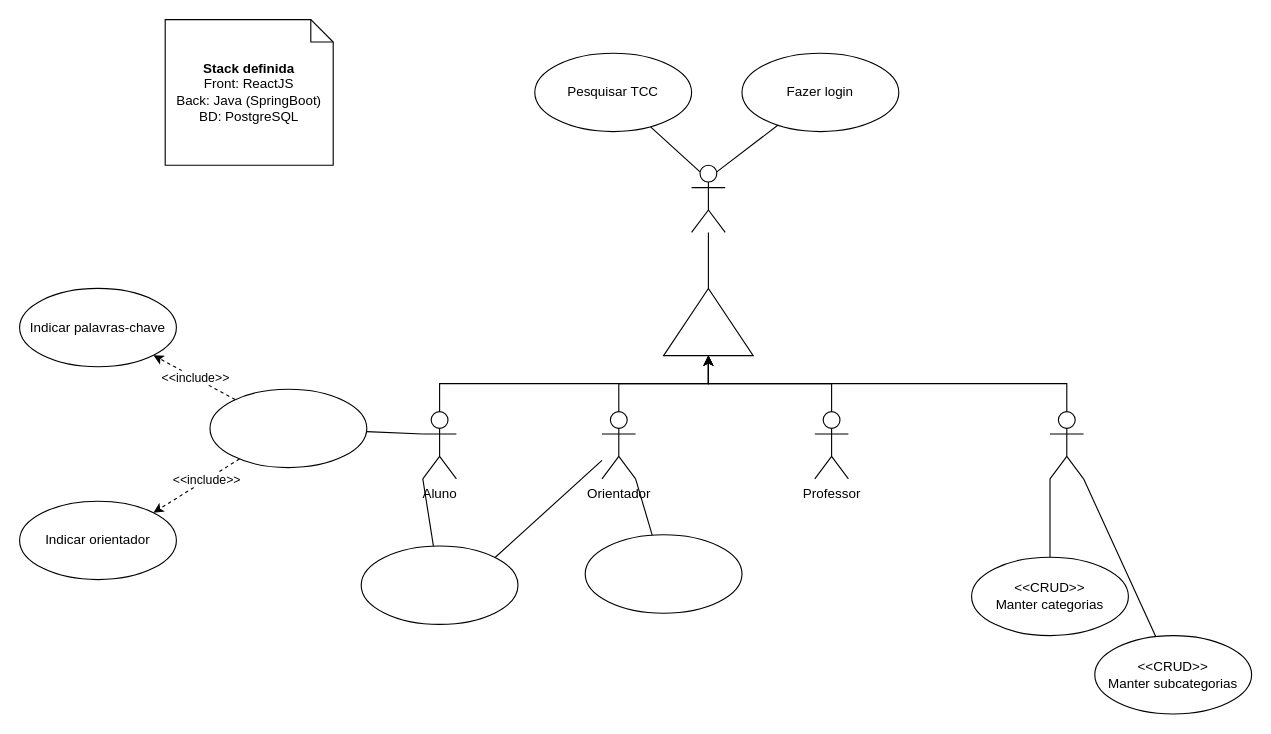
This 1271x734 diagram has some shape labels left out. The shapes that lost their labels are listed below. From the top down, each one's centre as x and y in pixels, then its label:
(707,198): Usuário
(288,428): Cadastrar TCC
(1066,444): Coordenador
(439,584): Indicar banca
(663,573): Aprovar TCC
